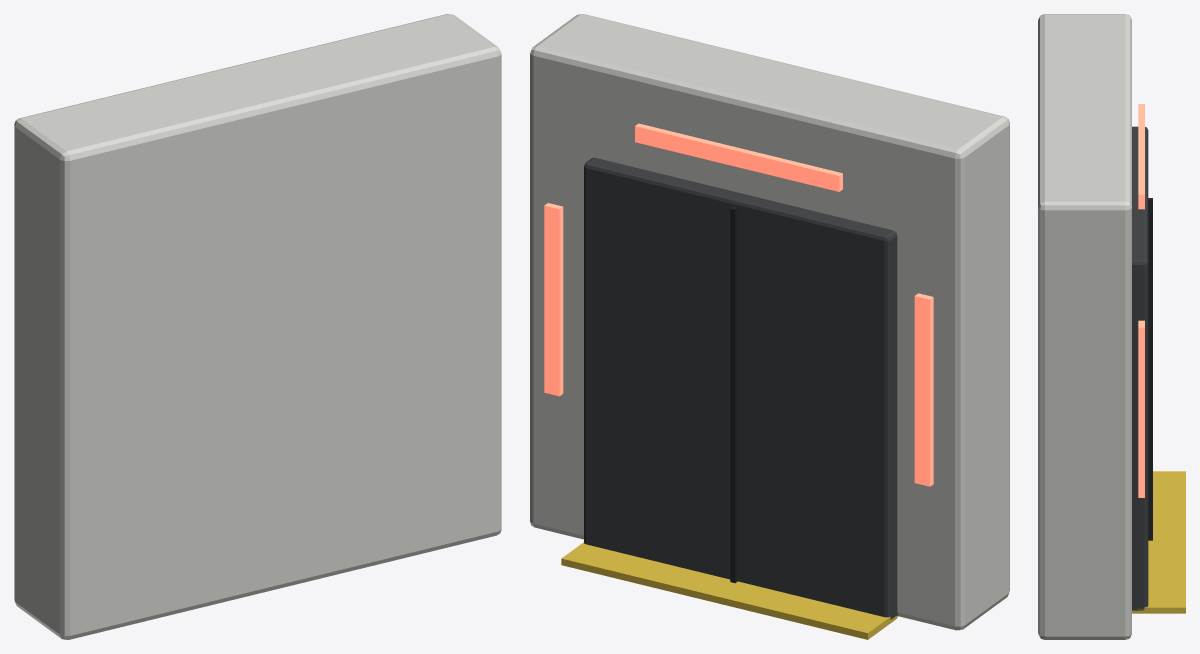
Rendered from door.glb.
The picture shows the model from 3 angles, left to right: view 1: azimuth 30°, elevation 25°; view 2: azimuth 150°, elevation 25°; view 3: azimuth 270°, elevation 25°; orthographic projection. The views are drawn at different scales.
Parts seen in each view (by area): view 1: door; view 2: door; view 3: door.
Boxes of the visible parts, x1,y1,x2,y2 form: door: (14,14,501,639); door: (530,14,1009,639); door: (1038,14,1185,639).
Size of the model in its own units: 3.4 by 3.6 by 1.1.
